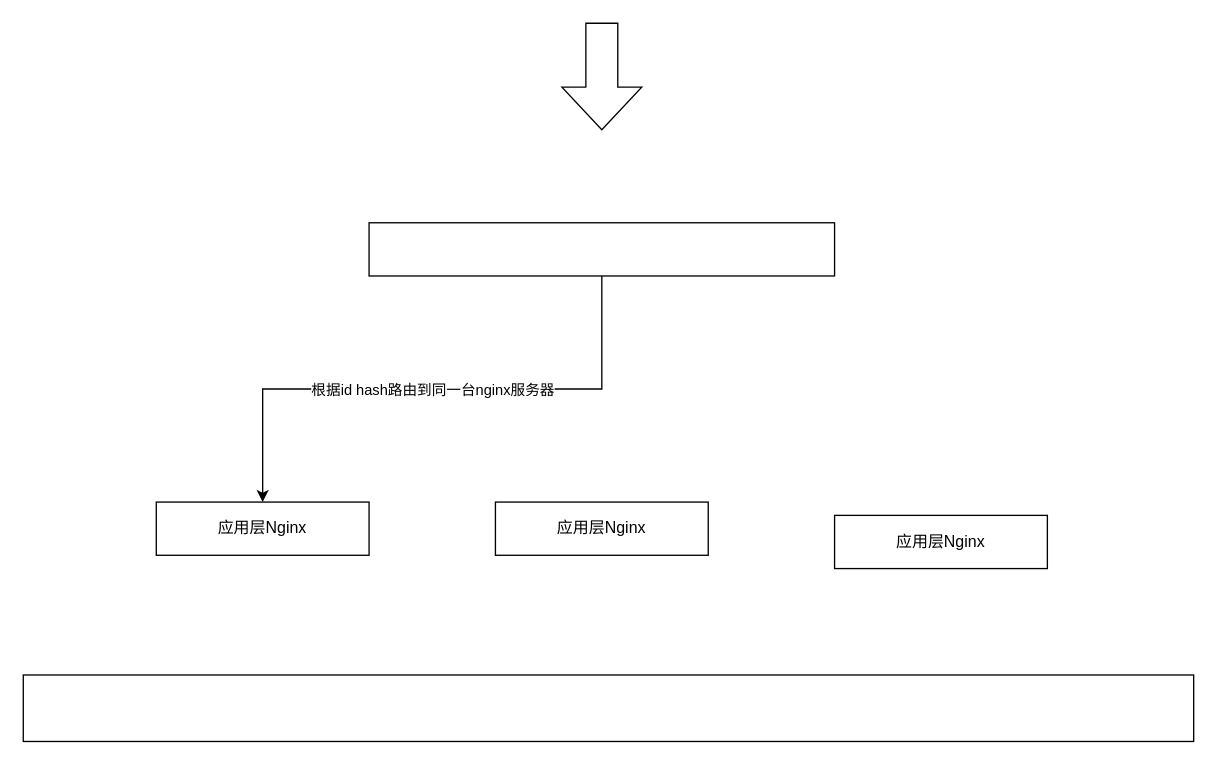
Image size: 1217x765. Some labels were removed from this diagram. Here are the shapes that lost their labels. From the top down, the centre of each, then its label:
At point 601,248: "分发层Nginx".
At point 608,707: "Redis".
